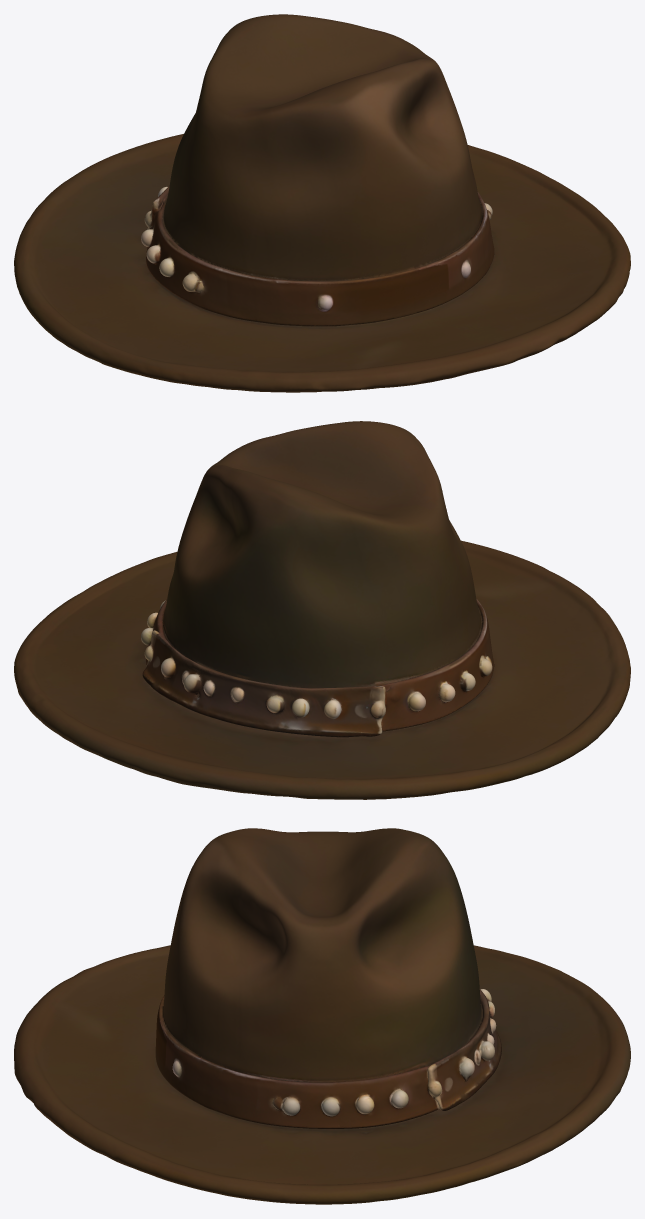
File: stranger_hat.glb
3 views of the same model, one above another, from view 1: azimuth 30°, elevation 25°; view 2: azimuth 150°, elevation 25°; view 3: azimuth 270°, elevation 25° (orthographic).
Visible parts, largest first — view 1: tripo_node_4cdac74a-088c-466d-8284-76f32e5be69d; view 2: tripo_node_4cdac74a-088c-466d-8284-76f32e5be69d; view 3: tripo_node_4cdac74a-088c-466d-8284-76f32e5be69d.
Part boxes in pixels (bbox=[...]): tripo_node_4cdac74a-088c-466d-8284-76f32e5be69d: bbox=[14, 14, 630, 392]; tripo_node_4cdac74a-088c-466d-8284-76f32e5be69d: bbox=[14, 421, 630, 799]; tripo_node_4cdac74a-088c-466d-8284-76f32e5be69d: bbox=[14, 828, 630, 1204].
Size of the model in its own units: 1 by 0.4178 by 0.9981.
Materials: 1 (1 with a texture image).
